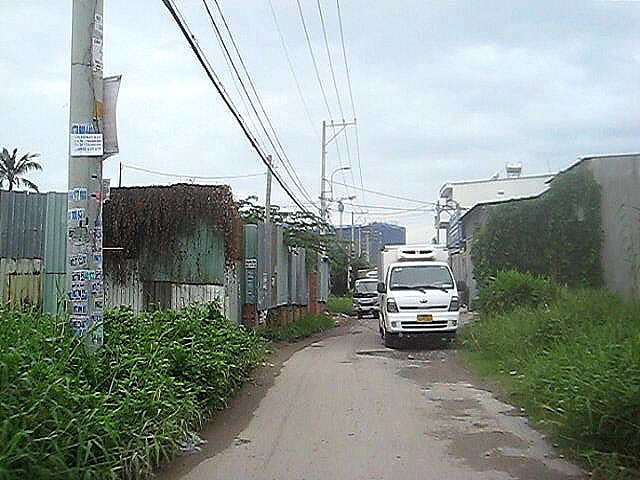hole: (353, 347, 453, 362)
